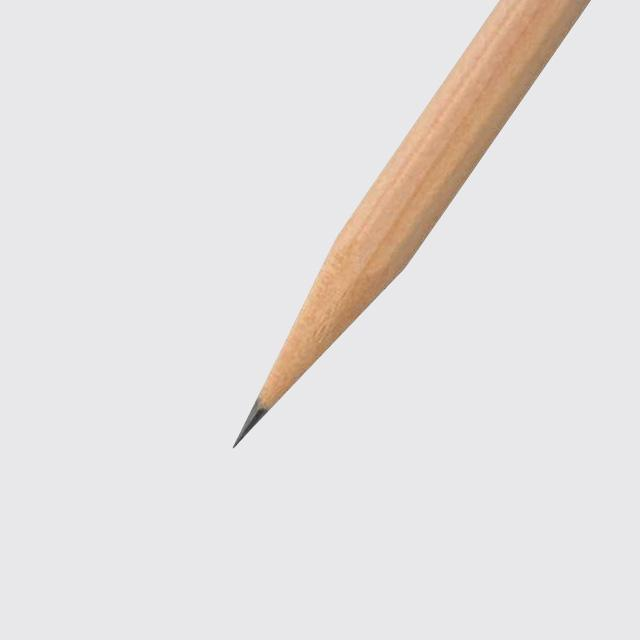pencil: (214, 1, 601, 473)
